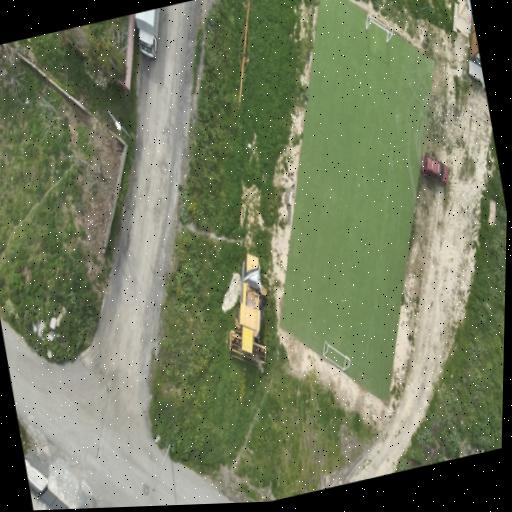car: (421, 155, 448, 184)
harvester: (228, 254, 265, 371)
truck: (134, 8, 159, 58)
